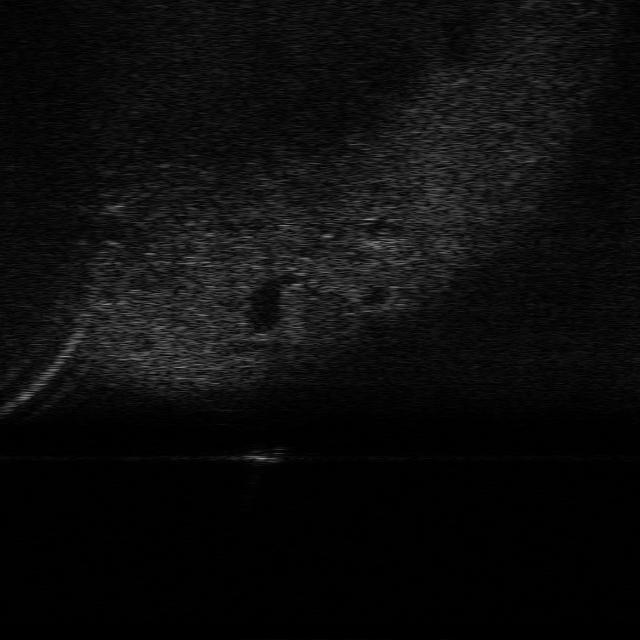cube: (248, 445, 290, 466)
